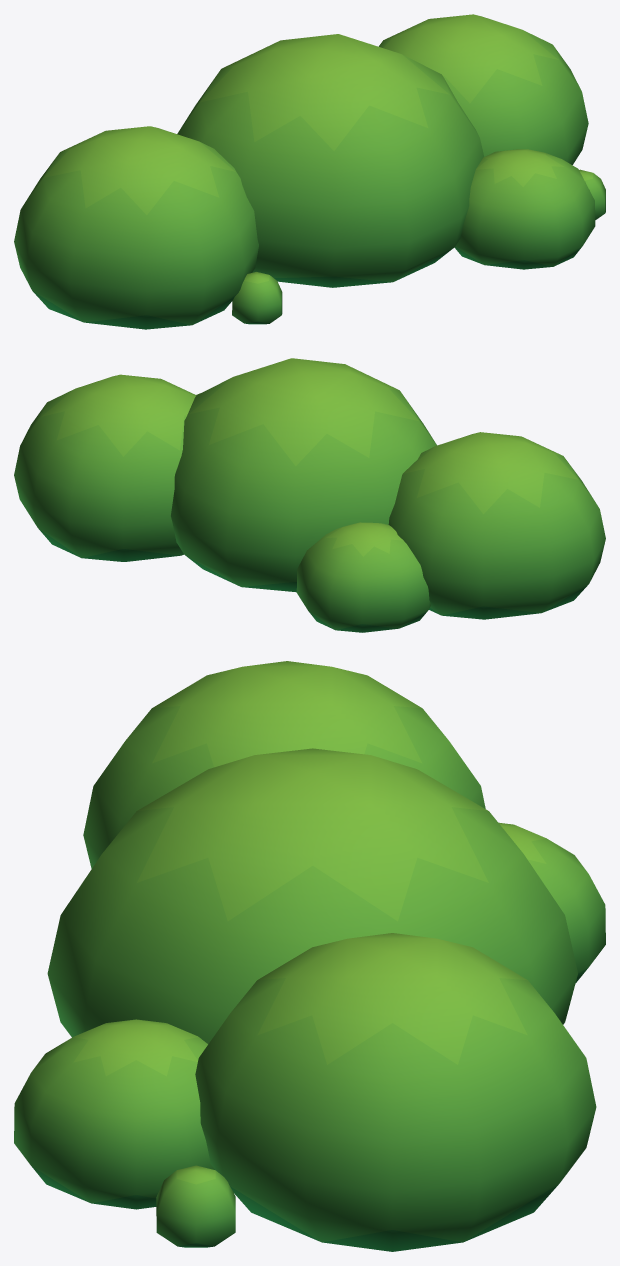
File: Bush_1_G_Color1.gltf
3 views of the same model, one above another, from view 1: azimuth 30°, elevation 25°; view 2: azimuth 150°, elevation 25°; view 3: azimuth 270°, elevation 25° (orthographic). The views are drawn at different scales.
Visible parts, largest first — view 1: Bush_1_G_Color1; view 2: Bush_1_G_Color1; view 3: Bush_1_G_Color1.
Part boxes in pixels (box(x1,y1,x2,y2)): Bush_1_G_Color1: box(14, 14, 605, 329); Bush_1_G_Color1: box(14, 358, 605, 632); Bush_1_G_Color1: box(14, 661, 605, 1251).
Bounding box in the file's own units: 3.1 × 0.9937 × 1.75.
Materials: 1 (1 with a texture image).
